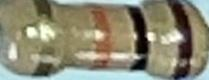Black: (124, 6, 152, 72)
Brown: (166, 0, 197, 80)
Orange: (88, 4, 108, 67)
Side-Gold: (32, 0, 55, 77)
